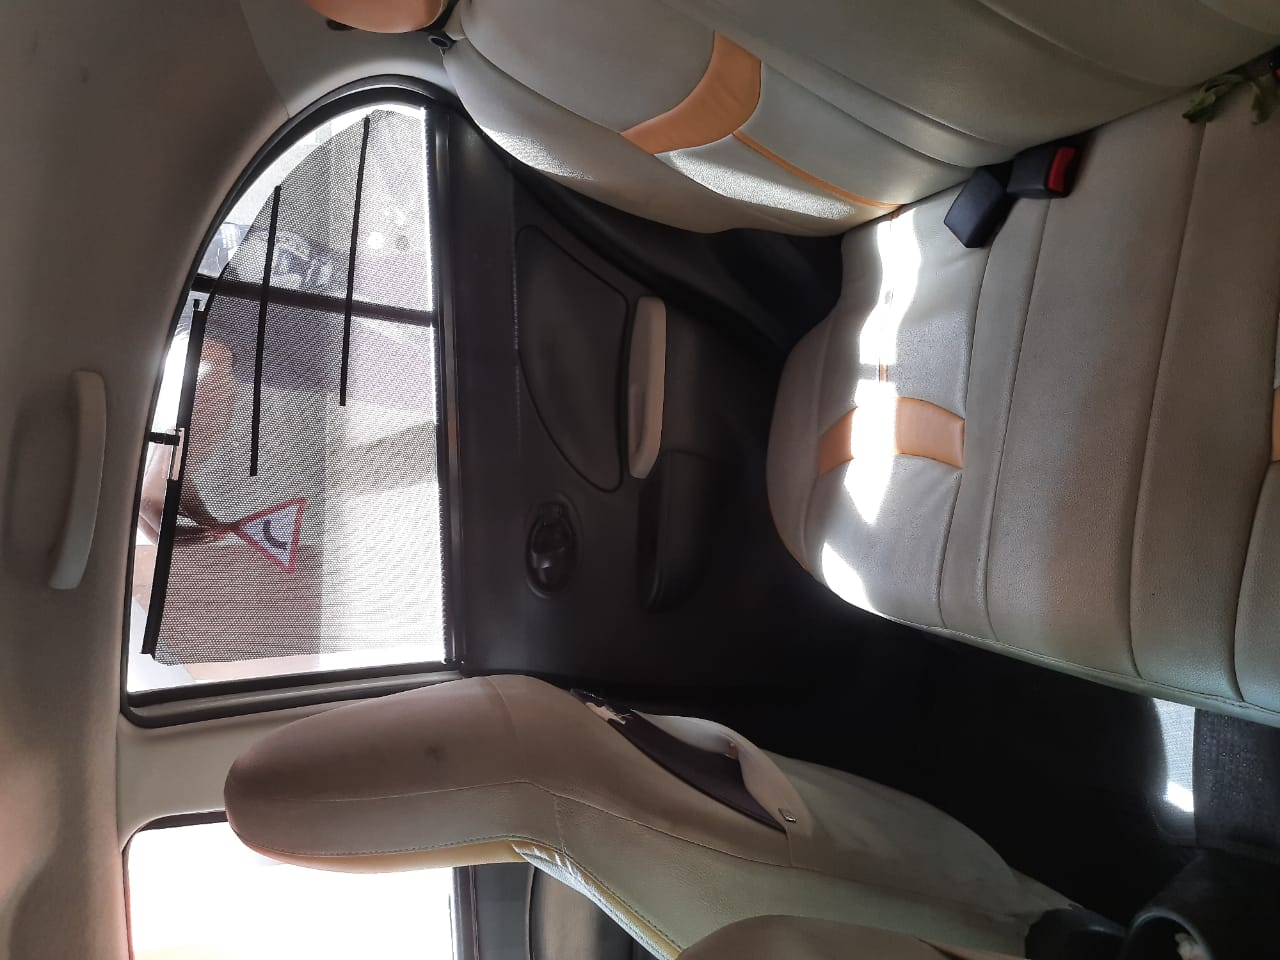RIGHT CURVE: (205, 490, 317, 580)
